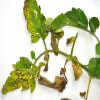Tomato Septoria leaf spot: (0, 57, 39, 96), (42, 6, 90, 37), (22, 1, 50, 45)
